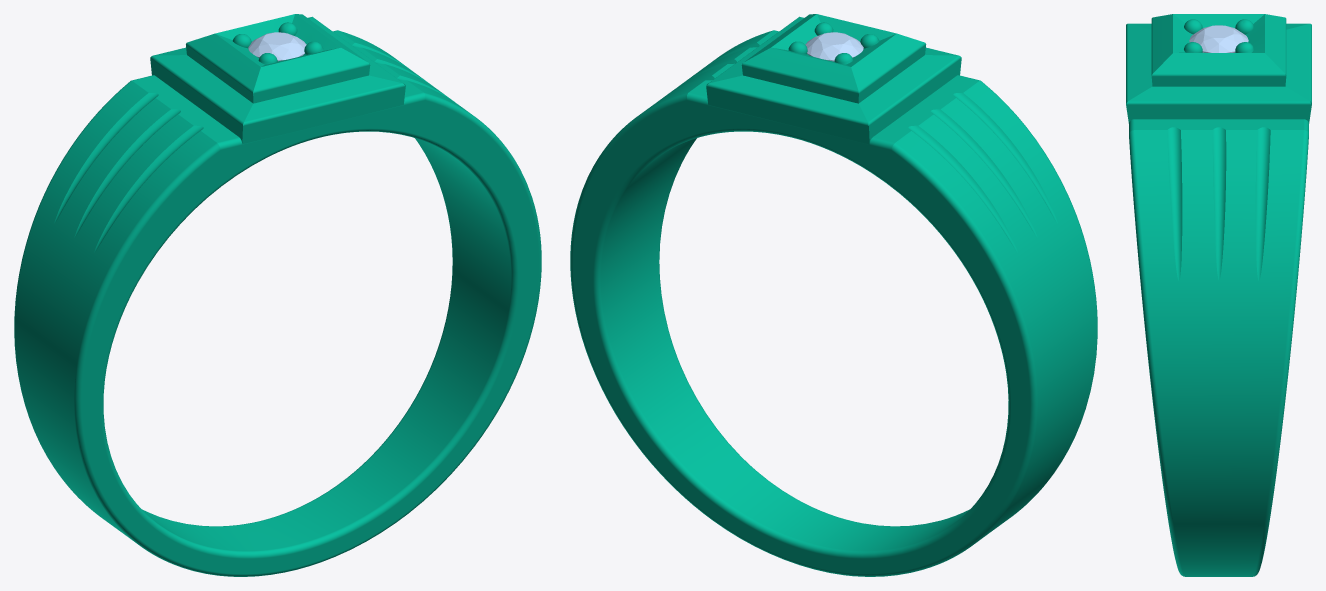
3 renders of one model, left to right at view 1: azimuth 30°, elevation 25°; view 2: azimuth 150°, elevation 25°; view 3: azimuth 270°, elevation 25°, orthographic.
Parts seen in each view (by area): view 1: plain wedding band for man(RENDER).3dm, Diamond_Round; view 2: plain wedding band for man(RENDER).3dm, Diamond_Round; view 3: plain wedding band for man(RENDER).3dm, Diamond_Round.
Part boxes in pixels (x1,y1,x2,y2): plain wedding band for man(RENDER).3dm: (14,14,541,576); Diamond_Round: (248,32,306,61); plain wedding band for man(RENDER).3dm: (570,14,1097,576); Diamond_Round: (805,32,863,61); plain wedding band for man(RENDER).3dm: (1126,14,1311,576); Diamond_Round: (1189,25,1248,52).
Bounding box in the file's own units: 2.66 × 2.84 × 0.9189.
